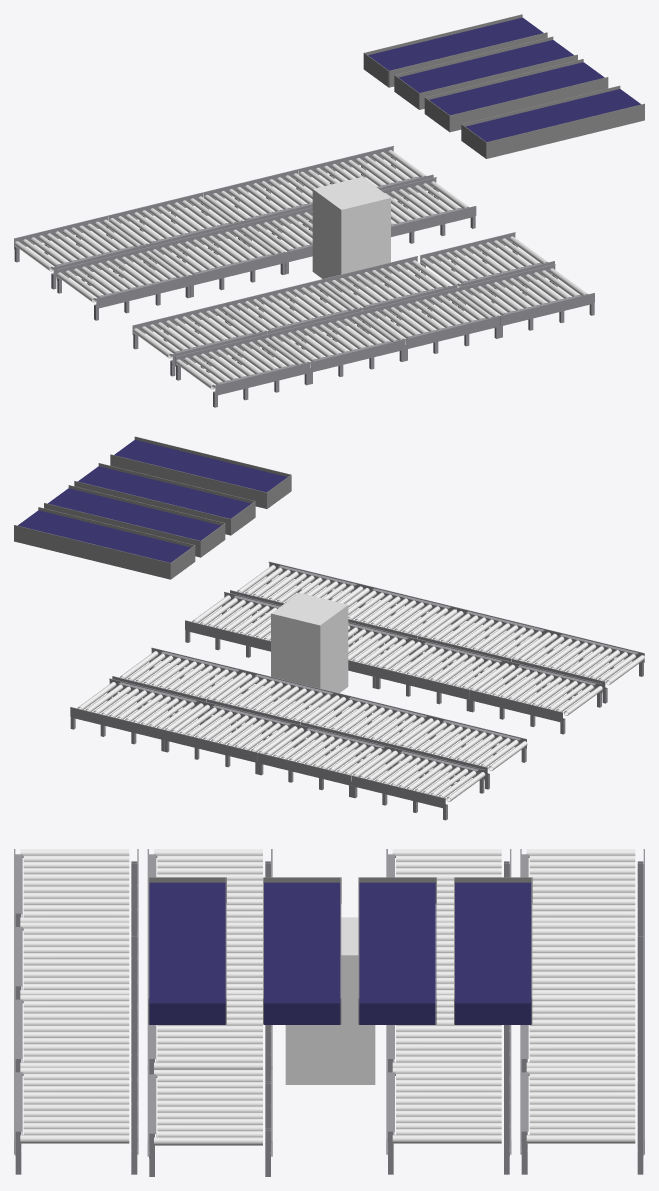
The model's file is cell_layout.glb.
3 renders of one model, top to bottom at view 1: azimuth 30°, elevation 25°; view 2: azimuth 150°, elevation 25°; view 3: azimuth 270°, elevation 25°, orthographic. The views are drawn at different scales.
Visible parts, largest first — view 1: Esteira1 (×4), Y-Bearing Cover (×14), Y-Bearing Cover004 (×7), Pedestal, ChapaFrontal.003 (×4), ChapaFrontal.001 (×4); view 2: Esteira1 (×4), Y-Bearing Cover (×7), Pedestal, ChapaFrontal.001 (×4), ChapaFrontal.003 (×4); view 3: Esteira1 (×4), New Roller (×12), New Roller008 (×12), New Roller 040 (×12), New Roller 056 (×12), New Roller 008 (×12), New Roller 2 (×12), New Roller 032 (×12), New Roller 064 (×12), New Roller 072 (×12), New Roller 048 (×12), New Roller 024 (×12) (+4 smaller).
Boxes of the visible parts, bbox=[...] form: Esteira1 (×4): bbox=[368, 17, 640, 141]; Y-Bearing Cover (×14): bbox=[14, 146, 555, 366]; Y-Bearing Cover004 (×7): bbox=[96, 206, 594, 395]; Pedestal: bbox=[312, 177, 390, 292]; ChapaFrontal.003 (×4): bbox=[389, 32, 644, 158]; ChapaFrontal.001 (×4): bbox=[364, 14, 620, 126]; Esteira1 (×4): bbox=[18, 440, 287, 562]; Y-Bearing Cover (×7): bbox=[70, 620, 563, 808]; Pedestal: bbox=[271, 593, 348, 707]; ChapaFrontal.001 (×4): bbox=[14, 454, 266, 579]; ChapaFrontal.003 (×4): bbox=[38, 436, 290, 547]; Esteira1 (×4): bbox=[149, 882, 531, 1024]; New Roller (×12): bbox=[20, 849, 635, 1077]; New Roller008 (×12): bbox=[20, 917, 635, 1145]; New Roller 040 (×12): bbox=[23, 886, 635, 1112]; New Roller 056 (×12): bbox=[23, 898, 635, 1124]; New Roller 008 (×12): bbox=[23, 861, 635, 1087]; New Roller 2 (×12): bbox=[23, 855, 635, 1081]; New Roller 032 (×12): bbox=[23, 880, 635, 1106]; New Roller 064 (×12): bbox=[23, 905, 635, 1130]; New Roller 072 (×12): bbox=[23, 911, 635, 1137]; New Roller 048 (×12): bbox=[23, 892, 635, 1118]; New Roller 024 (×12): bbox=[23, 874, 635, 1100].
Size of what is drawn, in the model's own units: 9 by 2.85 by 6.61.
